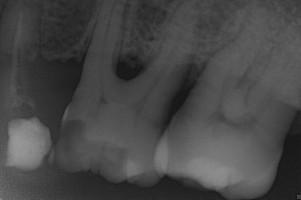Endo-Periodontal Lesion: (117, 49, 150, 78)
